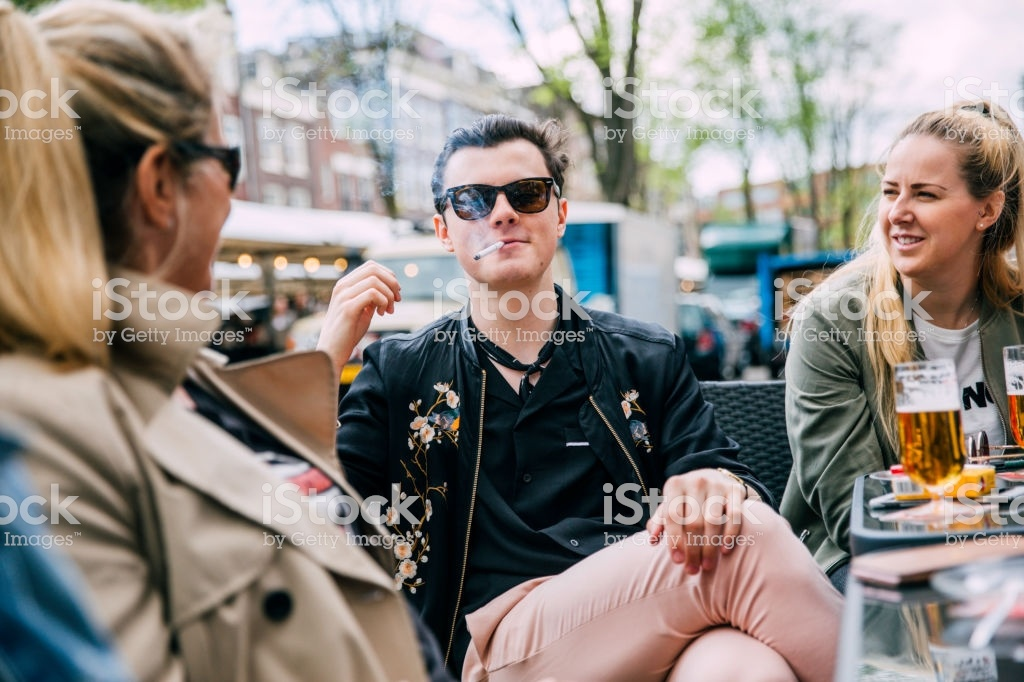sigaretta: (466, 236, 511, 271)
